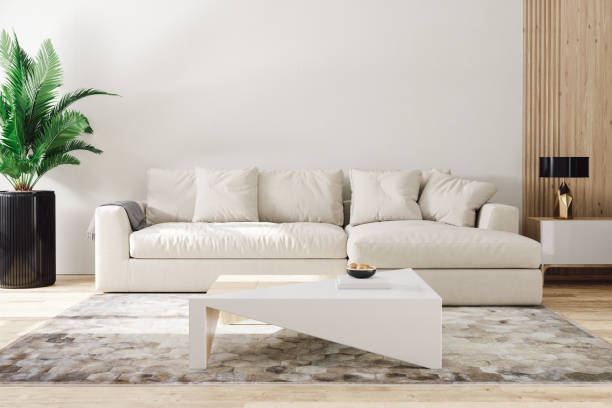large plant: (0, 24, 102, 288)
sofa: (92, 163, 548, 308)
table: (185, 266, 445, 371)
table lamp: (537, 151, 590, 217)
